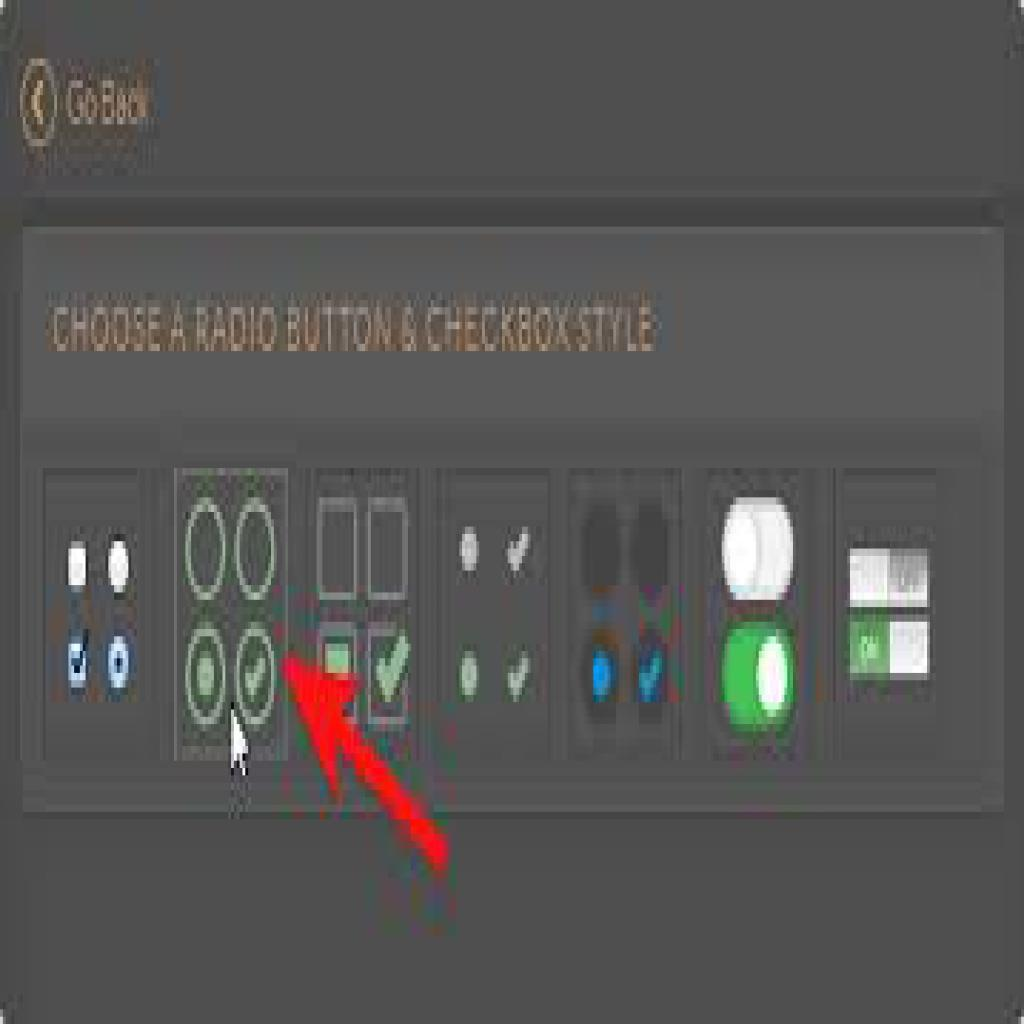checkbox: (316, 498, 360, 603), (235, 499, 278, 604), (237, 623, 280, 726), (364, 629, 408, 729), (368, 500, 409, 604), (66, 643, 90, 693), (67, 543, 90, 594)
radio: (186, 620, 230, 730), (186, 498, 230, 599), (103, 631, 137, 702), (105, 538, 134, 601)
switch: (722, 623, 797, 732), (721, 496, 799, 599), (850, 549, 931, 609), (851, 618, 931, 676)
